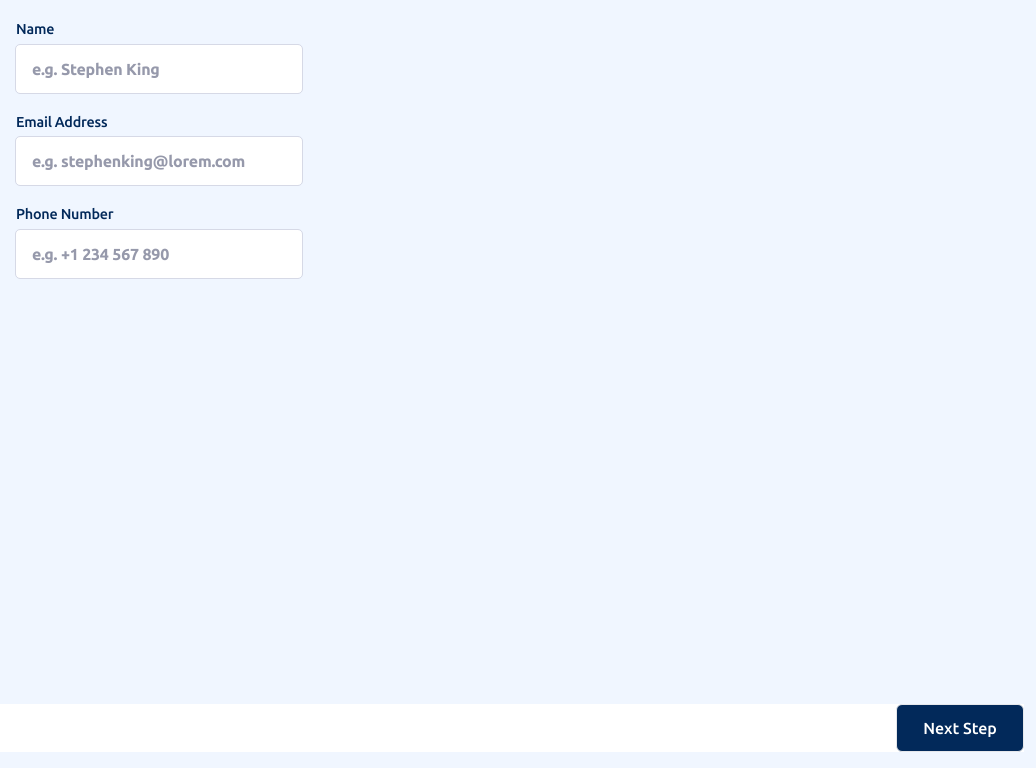
Test: required message pops up at empty required fields when submit button clicked
Click the button "next step": (960, 728) [896, 704, 1024, 752]
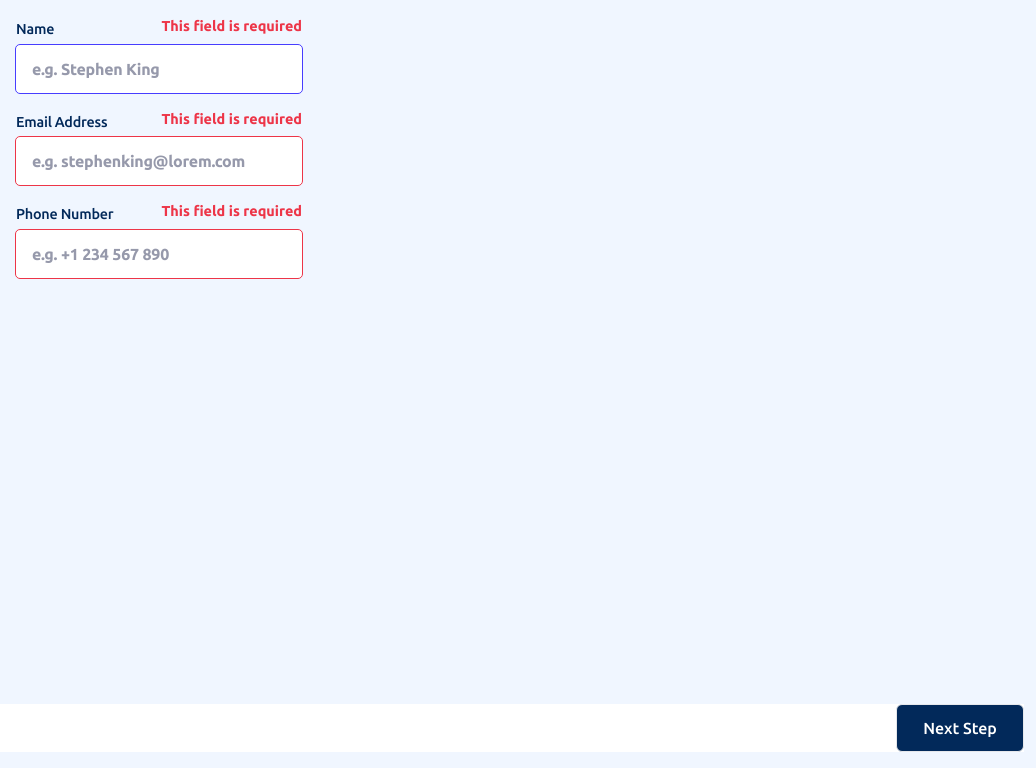
Result: the text "This field is required" is shown 3 times at [162, 16, 302, 38]; [162, 109, 302, 130]; [162, 201, 302, 223]
